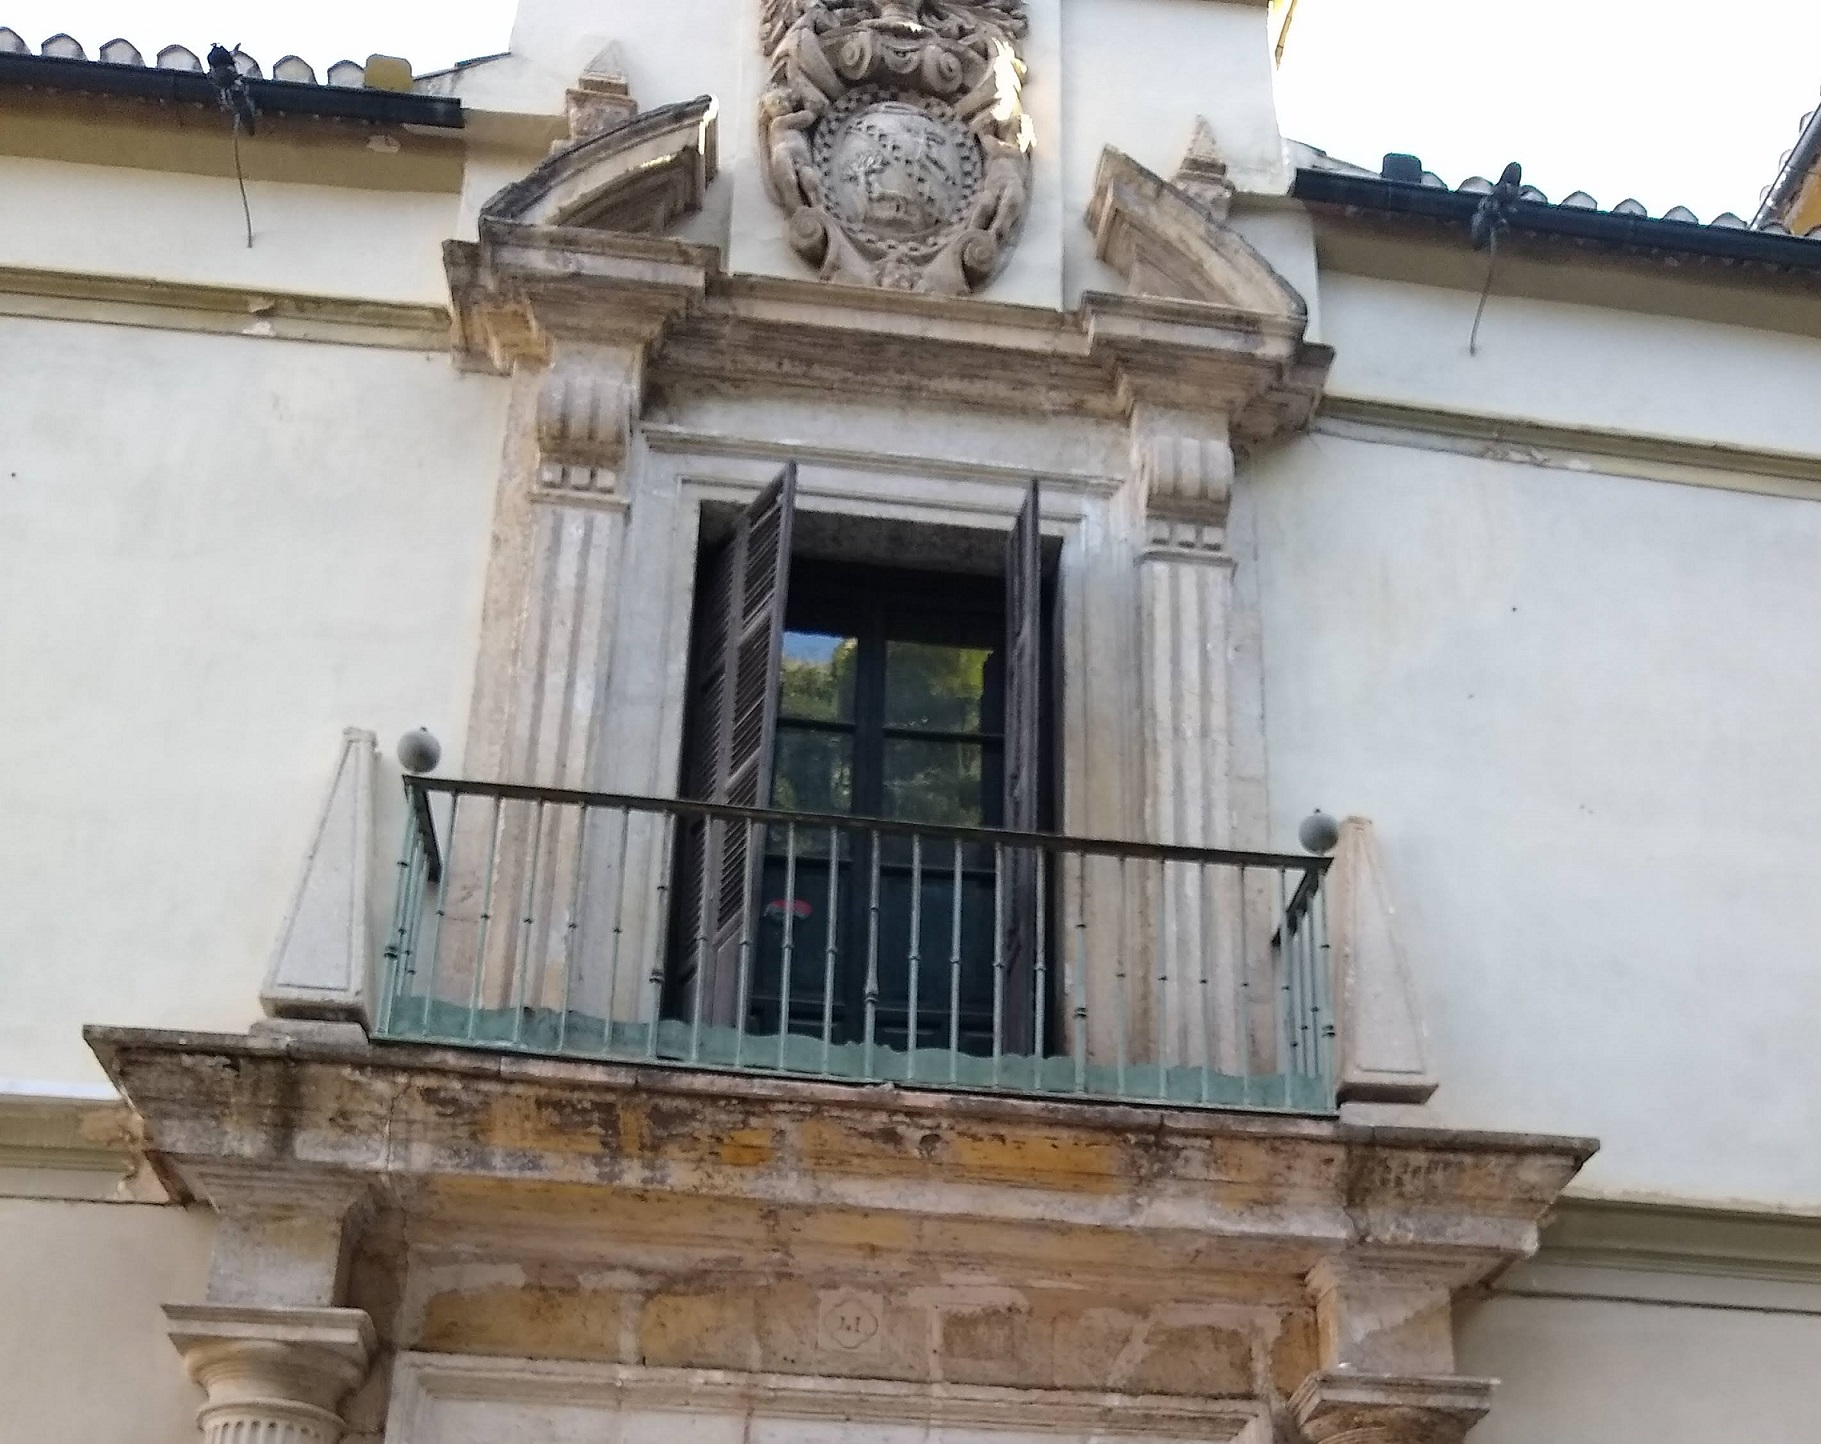fronton-partido: (454, 84, 1321, 371)
vano-adintelado: (621, 432, 1126, 1077)
